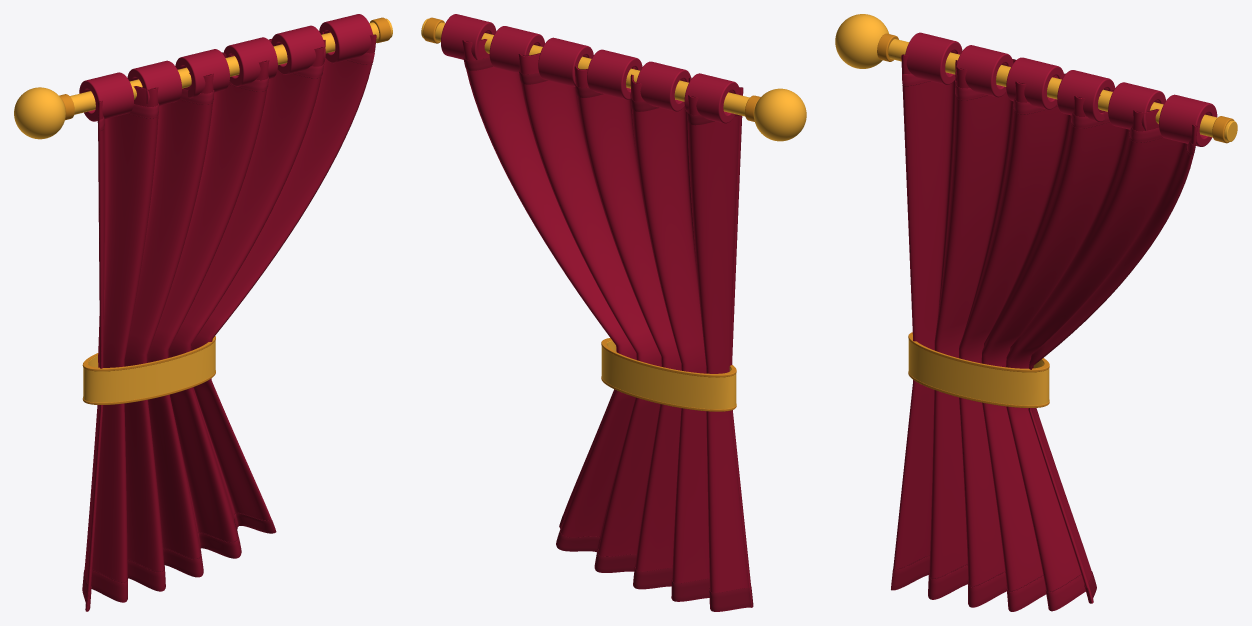
File: SideCurtain.glb
3 views of the same model, side by side, from view 1: azimuth 30°, elevation 25°; view 2: azimuth 150°, elevation 25°; view 3: azimuth 330°, elevation 25° (orthographic). The views are drawn at different scales.
Parts seen in each view (by area): view 1: GatheredBurgundyFabric, BroadGoldTieback, FrontTurnedHem, OuterGoldBallFinial, FabricHangingLoop_1, FabricHangingLoop_6, FabricHangingLoop_5, FabricHangingLoop_4, FabricHangingLoop_3, FabricHangingLoop_2, GoldSupportRod, FrontHeaderBand (+1 smaller); view 2: GatheredBurgundyFabric, BroadGoldTieback, BackTurnedHem, OuterGoldBallFinial, FabricHangingLoop_3, FabricHangingLoop_2, FabricHangingLoop_4, FabricHangingLoop_1, FabricHangingLoop_5, FabricHangingLoop_6, GoldSupportRod, BackHeaderBand (+1 smaller); view 3: GatheredBurgundyFabric, BroadGoldTieback, FrontTurnedHem, OuterGoldBallFinial, FabricHangingLoop_1, FabricHangingLoop_6, FabricHangingLoop_2, FabricHangingLoop_3, FabricHangingLoop_4, FabricHangingLoop_5, GoldSupportRod, FrontHeaderBand (+1 smaller).
Boxes of the visible parts, x1=… form: GatheredBurgundyFabric: x1=84, y1=30, x2=376, y2=611; BroadGoldTieback: x1=83, y1=341, x2=215, y2=402; FrontTurnedHem: x1=87, y1=513, x2=276, y2=610; OuterGoldBallFinial: x1=14, y1=87, x2=65, y2=139; FabricHangingLoop_1: x1=79, y1=72, x2=133, y2=121; FabricHangingLoop_6: x1=319, y1=14, x2=372, y2=63; FabricHangingLoop_5: x1=271, y1=25, x2=325, y2=74; FabricHangingLoop_4: x1=223, y1=37, x2=277, y2=86; FabricHangingLoop_3: x1=175, y1=49, x2=229, y2=98; FabricHangingLoop_2: x1=127, y1=60, x2=181, y2=105; GoldSupportRod: x1=70, y1=22, x2=379, y2=114; FrontHeaderBand: x1=99, y1=53, x2=374, y2=129; GatheredBurgundyFabric: x1=462, y1=39, x2=753, y2=611; BroadGoldTieback: x1=601, y1=340, x2=736, y2=409; BackTurnedHem: x1=556, y1=514, x2=751, y2=610; OuterGoldBallFinial: x1=754, y1=88, x2=806, y2=141; FabricHangingLoop_3: x1=587, y1=49, x2=642, y2=99; FabricHangingLoop_2: x1=636, y1=61, x2=690, y2=111; FabricHangingLoop_4: x1=538, y1=37, x2=593, y2=86; FabricHangingLoop_1: x1=684, y1=73, x2=739, y2=123; FabricHangingLoop_5: x1=489, y1=26, x2=544, y2=73; FabricHangingLoop_6: x1=441, y1=14, x2=496, y2=59; GoldSupportRod: x1=435, y1=22, x2=749, y2=116; BackHeaderBand: x1=463, y1=57, x2=740, y2=125; GatheredBurgundyFabric: x1=891, y1=50, x2=1197, y2=611; BroadGoldTieback: x1=908, y1=340, x2=1049, y2=405; FrontTurnedHem: x1=891, y1=556, x2=1091, y2=610; OuterGoldBallFinial: x1=835, y1=14, x2=888, y2=68; FabricHangingLoop_1: x1=905, y1=32, x2=962, y2=84; FabricHangingLoop_6: x1=1159, y1=94, x2=1217, y2=146; FabricHangingLoop_2: x1=955, y1=45, x2=1013, y2=97; FabricHangingLoop_3: x1=1006, y1=57, x2=1063, y2=109; FabricHangingLoop_4: x1=1057, y1=70, x2=1114, y2=122; FabricHangingLoop_5: x1=1108, y1=82, x2=1165, y2=130; GoldSupportRod: x1=888, y1=39, x2=1217, y2=137; FrontHeaderBand: x1=902, y1=73, x2=1194, y2=154.
Size of the model in its own units: 1.68 by 2.27 by 0.2131.
7 materials, 7 textured.
